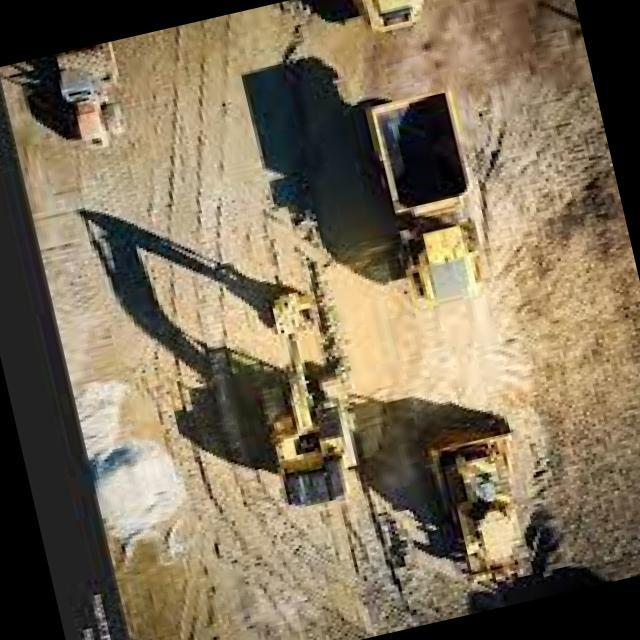excavator: (255, 285, 347, 510)
